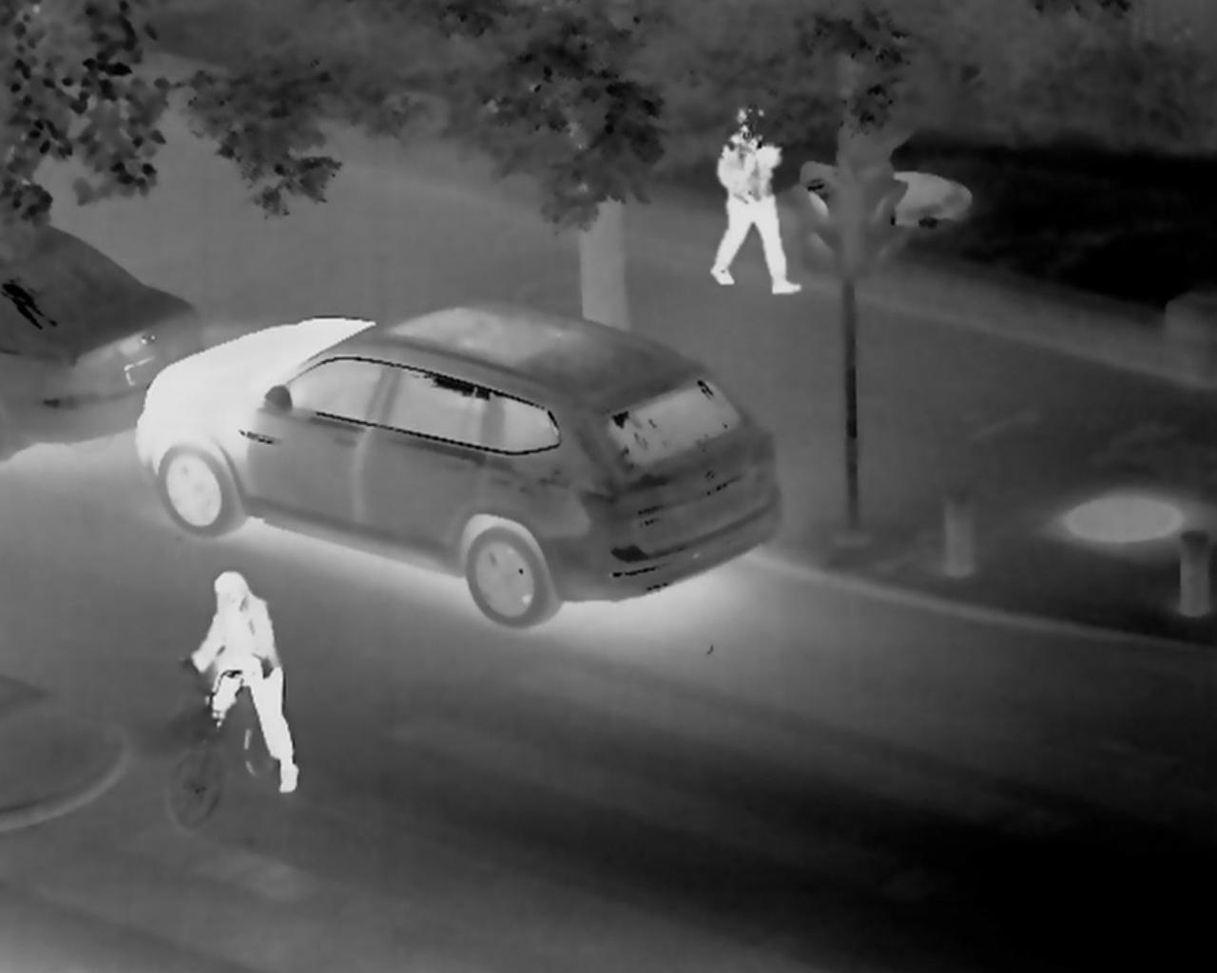person: (179, 568, 305, 800), (708, 100, 802, 299)
